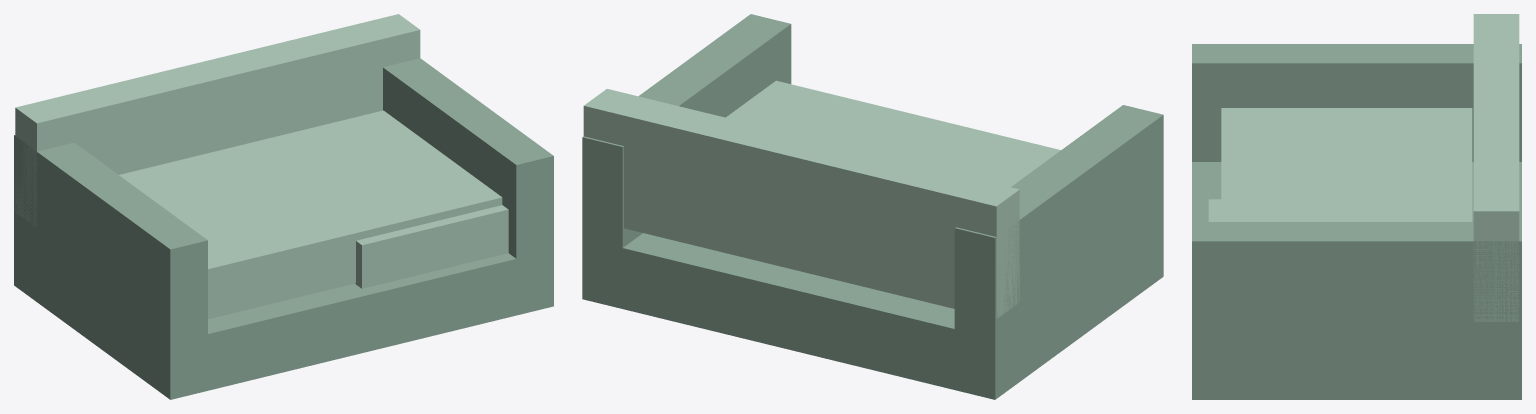
Rendered from rf3-sofa-04.glb.
3 renders of one model, left to right at view 1: azimuth 30°, elevation 25°; view 2: azimuth 150°, elevation 25°; view 3: azimuth 270°, elevation 25°, orthographic. The views are drawn at different scales.
Size of the model in its own units: 1.84 by 0.83 by 1.3.
